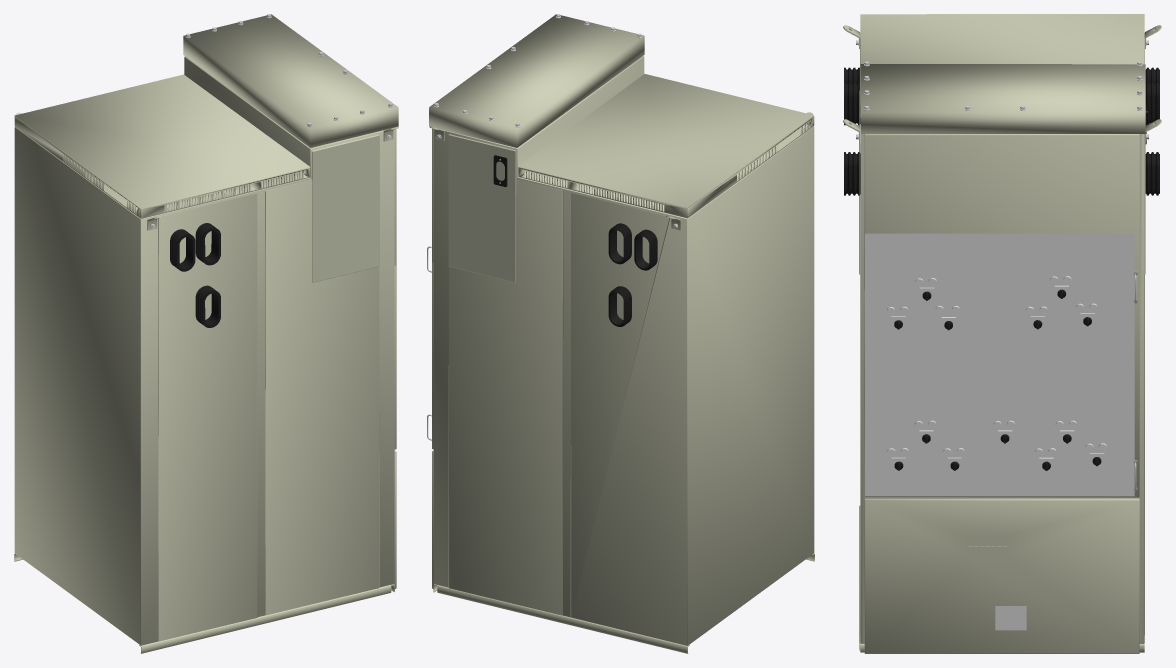
File: Main.fbx
The picture shows the model from 3 angles, left to right: view 1: azimuth 30°, elevation 25°; view 2: azimuth 150°, elevation 25°; view 3: azimuth 270°, elevation 25°; orthographic projection. The views are drawn at different scales.
Visible parts, largest first — view 1: Шкаф, Накладки шин.001; view 2: Шкаф, Накладки шин; view 3: Шкаф, Схема, Накладки шин.001, Накладки шин, Предупреждающий знак.
Part boxes in pixels (box(x1,y1,x2,y2)): Шкаф: box(14, 14, 398, 653); Накладки шин.001: box(170, 223, 220, 327); Шкаф: box(429, 14, 814, 653); Накладки шин: box(608, 223, 657, 326); Шкаф: box(843, 14, 1161, 653); Схема: box(865, 233, 1134, 496); Накладки шин.001: box(844, 67, 860, 195); Накладки шин: box(1145, 67, 1159, 195); Предупреждающий знак: box(995, 606, 1026, 630).
Size of the model in its own units: 143 by 251 by 133.
